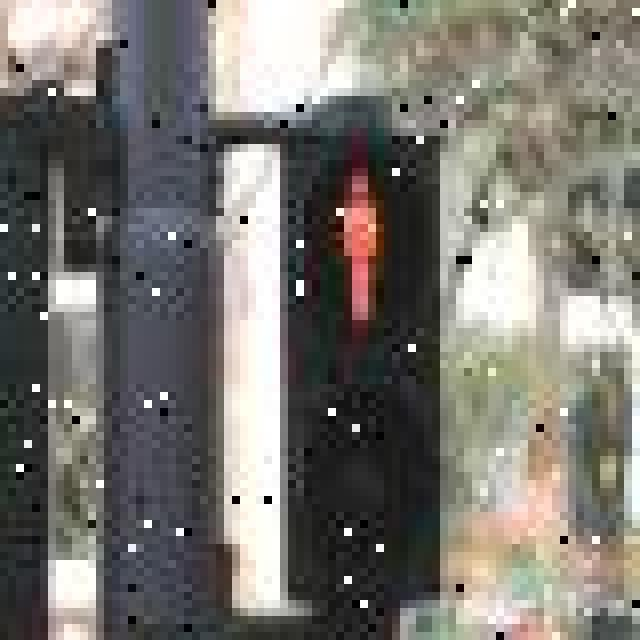redlight: (278, 121, 436, 604)
